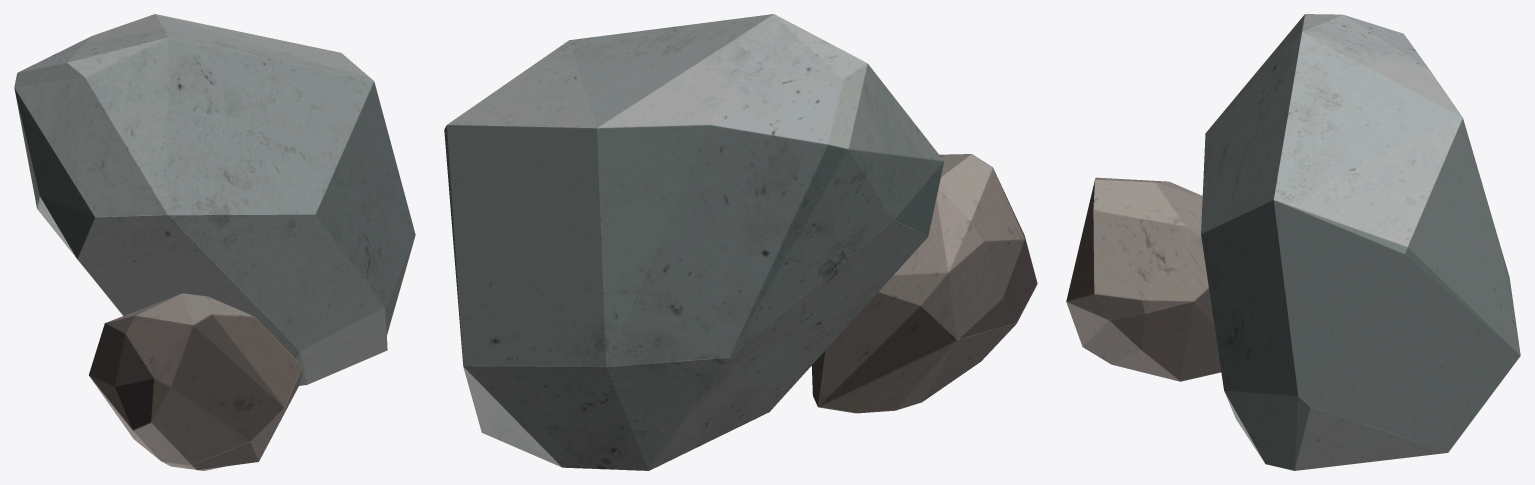
Rendered from rocks2.fbx.
The picture shows the model from 3 angles, left to right: view 1: azimuth 30°, elevation 25°; view 2: azimuth 150°, elevation 25°; view 3: azimuth 270°, elevation 25°; orthographic projection. The views are drawn at different scales.
Parts seen in each view (by area): view 1: node_id5; view 2: node_id5; view 3: node_id5.
Part boxes in pixels (bbox=[...]): node_id5: bbox=[14, 14, 415, 470]; node_id5: bbox=[444, 14, 1037, 470]; node_id5: bbox=[1066, 14, 1520, 470].
Bounding box in the file's own units: 0.512 × 0.454 × 0.5543.
1 material, 1 textured.
